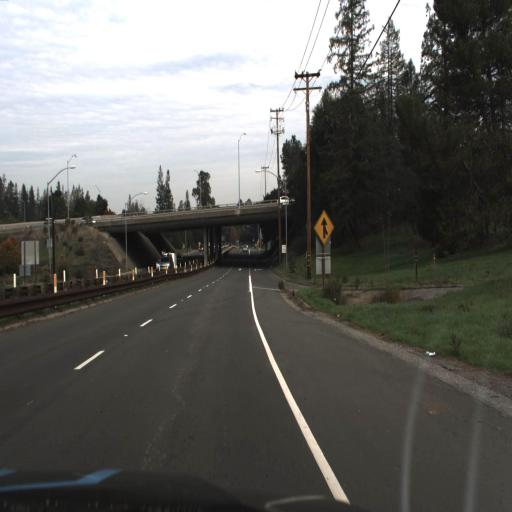car: (152, 252, 176, 272), (153, 252, 175, 272), (82, 210, 103, 227)
